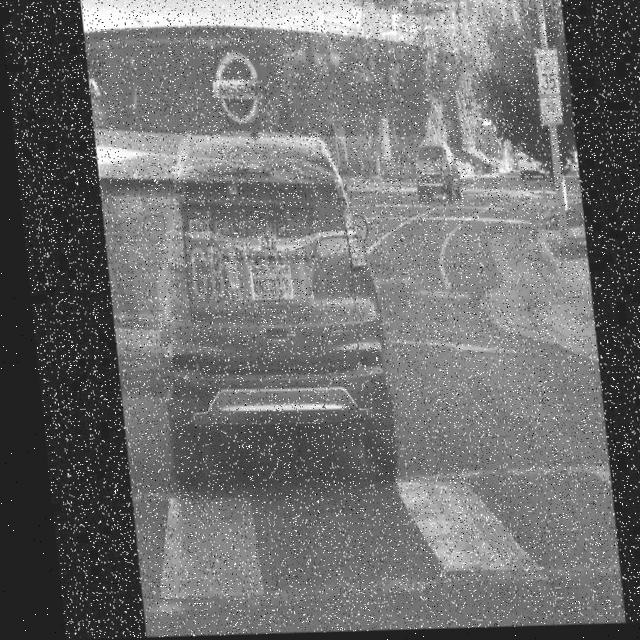LicensePlate: (245, 265, 288, 304)
